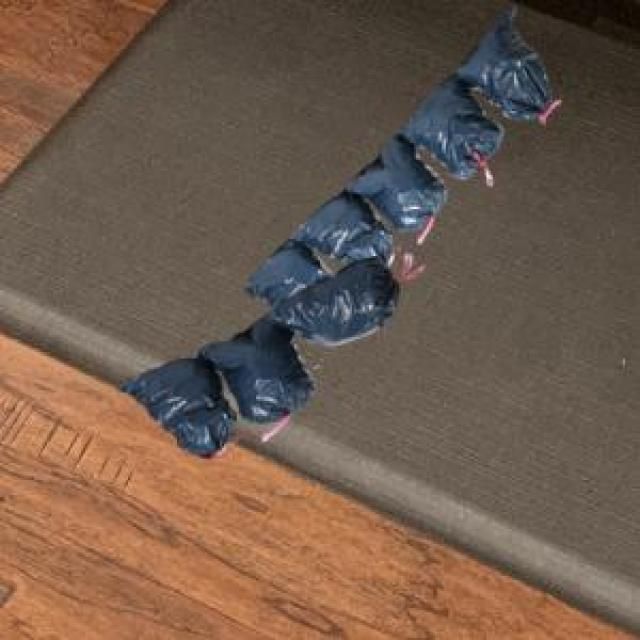waste: (124, 11, 551, 454)
